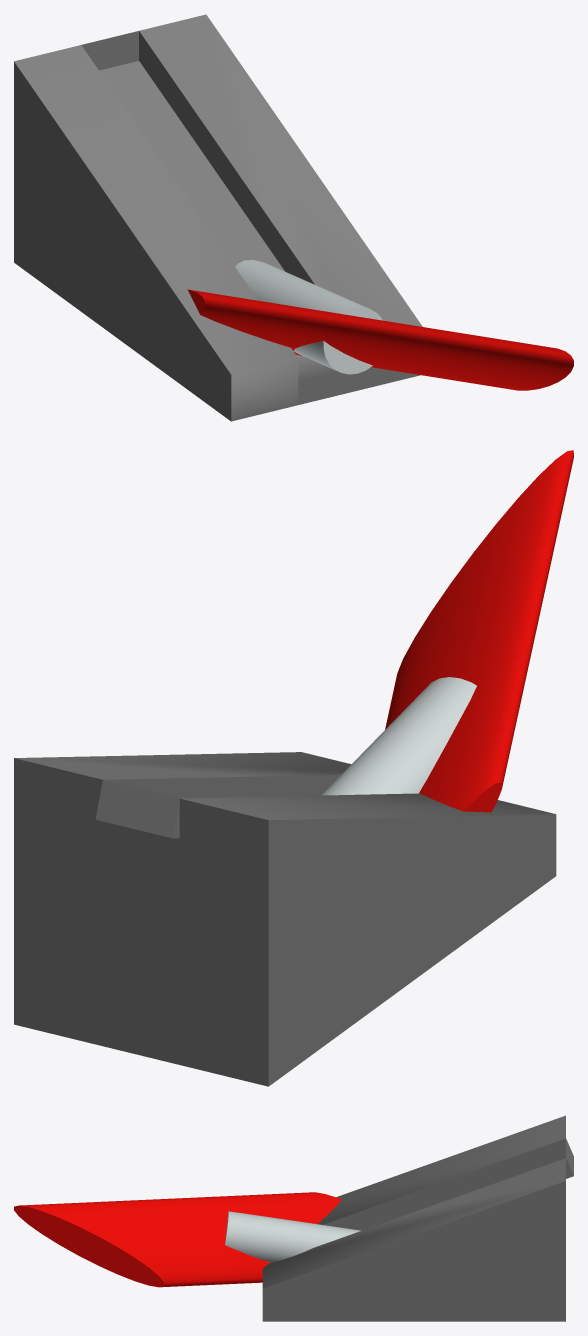
Rendered from lever1.fbx.
3 renders of one model, top to bottom at view 1: azimuth 30°, elevation 25°; view 2: azimuth 150°, elevation 25°; view 3: azimuth 270°, elevation 25°, orthographic. The views are drawn at different scales.
Visible parts, largest first — view 1: Cube, Cylinder.001, Cylinder; view 2: Cube, Cylinder.001, Cylinder; view 3: Cube, Cylinder.001, Cylinder.
Part boxes in pixels (x1,y1,x2,y2): Cube: (14, 14, 422, 421); Cylinder.001: (187, 289, 573, 390); Cylinder: (235, 260, 382, 374); Cube: (14, 752, 556, 1086); Cylinder.001: (385, 450, 573, 812); Cylinder: (321, 677, 476, 795); Cube: (262, 1115, 573, 1321); Cylinder.001: (14, 1192, 341, 1287); Cylinder: (225, 1211, 360, 1262).
Bounding box in the file's own units: 147 × 155 × 531.
